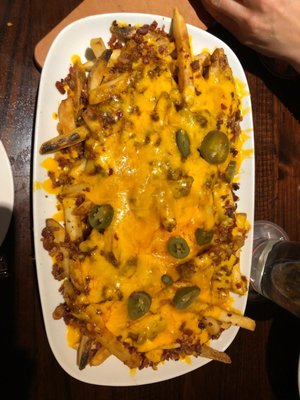curry: (1, 1, 299, 330)
sandwich: (32, 10, 255, 389)
